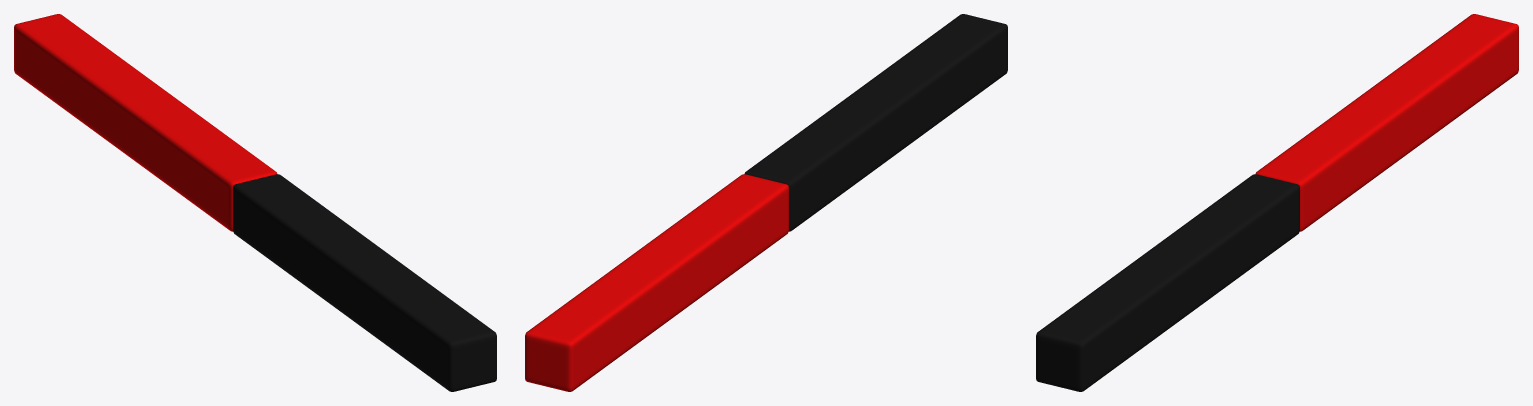
The model's file is gate_leg.dae.
3 views of the same model, side by side, from view 1: azimuth 30°, elevation 25°; view 2: azimuth 150°, elevation 25°; view 3: azimuth 330°, elevation 25° (orthographic).
Visible parts, largest first — view 1: gate_left-lib-0, gate_left-lib-1; view 2: gate_left-lib-1, gate_left-lib-0; view 3: gate_left-lib-0, gate_left-lib-1.
Boxes of the visible parts, x1,y1,x2,y2 form: gate_left-lib-0: (233,174,496,391); gate_left-lib-1: (14,14,277,231); gate_left-lib-1: (525,174,788,391); gate_left-lib-0: (744,14,1007,231); gate_left-lib-0: (1036,174,1299,391); gate_left-lib-1: (1255,14,1518,231).
Bounding box in the file's own units: 0.0762 × 0.0762 × 1.22.
